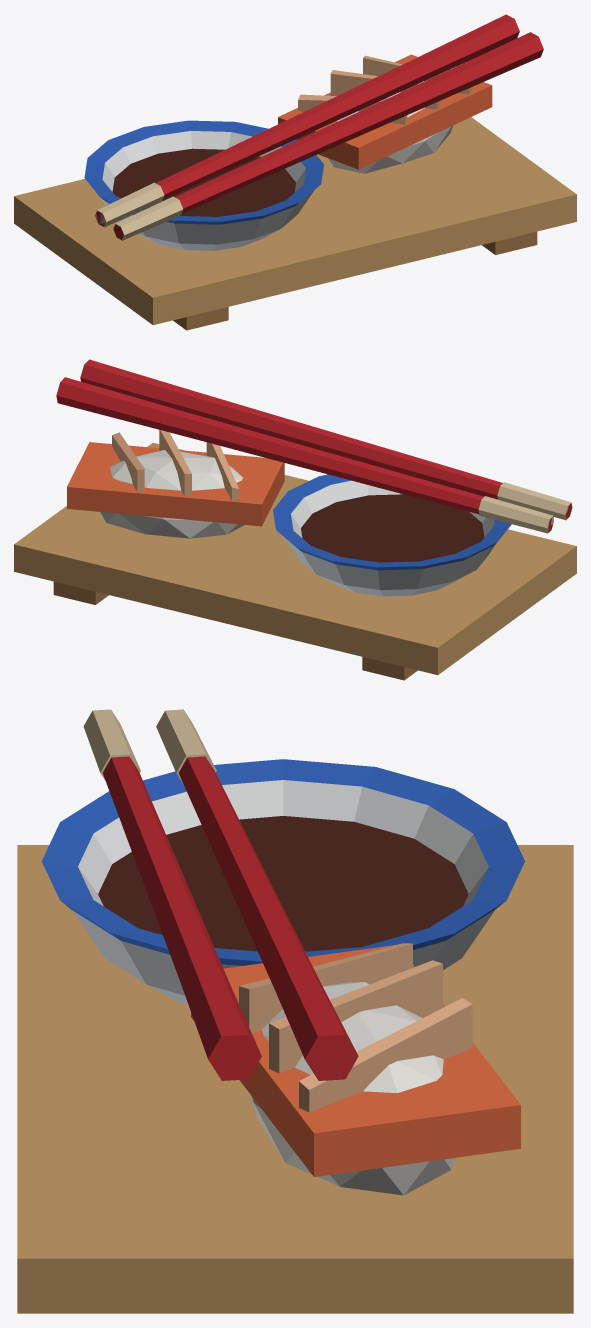
File: habitat_prop_sushi.fbx
3 renders of one model, top to bottom at view 1: azimuth 30°, elevation 25°; view 2: azimuth 150°, elevation 25°; view 3: azimuth 270°, elevation 25°, orthographic. The views are drawn at different scales.
Parts seen in each view (by area): view 1: habitat_prop_sushi; view 2: habitat_prop_sushi; view 3: habitat_prop_sushi.
Boxes of the visible parts, x1,y1,x2,y2 form: habitat_prop_sushi: [14, 14, 576, 330]; habitat_prop_sushi: [14, 359, 576, 680]; habitat_prop_sushi: [17, 709, 573, 1313].
Bounding box in the file's own units: 1.73 × 0.5887 × 0.92.
